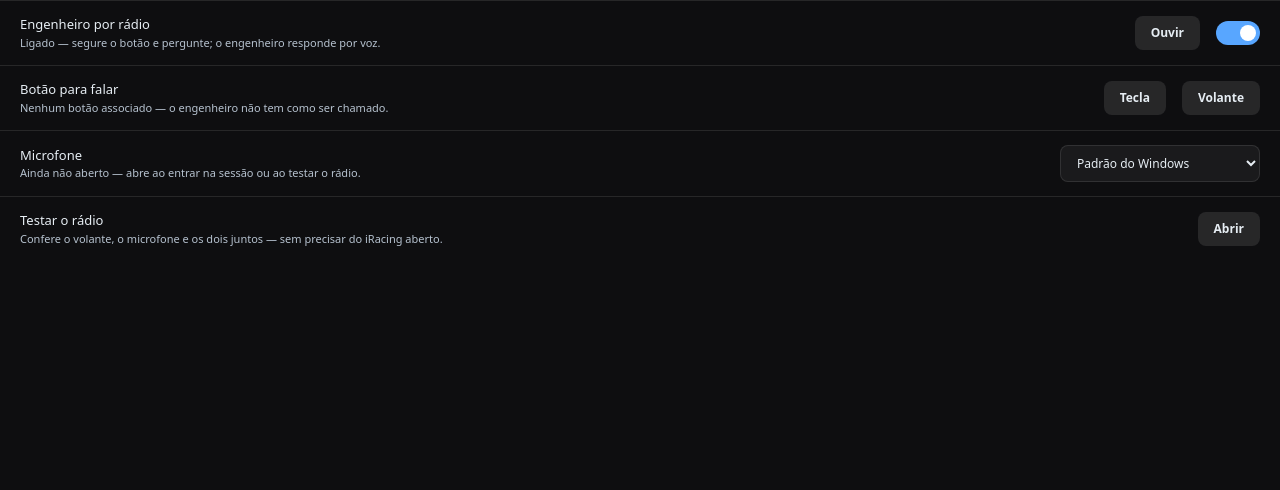
Scenario: painel de teste › aberto, guia as três pontas mesmo sem hardware nenhum respondendo
The image size is (1280, 490).
Click the button "Abrir" at (1229, 229), box [1198,212,1260,246]
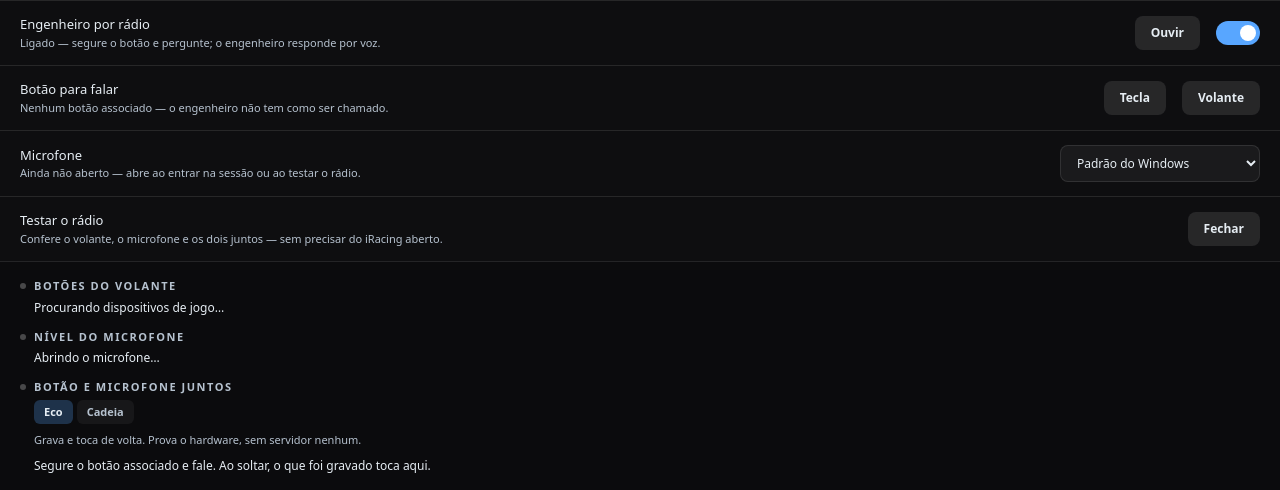
Expected: the text "Botões do volante" is shown, [20,278,177,293]
Expected: the text "Nível do microfone" is shown, [20,328,185,344]
Expected: the text "Botão e microfone juntos" is shown, [20,379,233,394]
